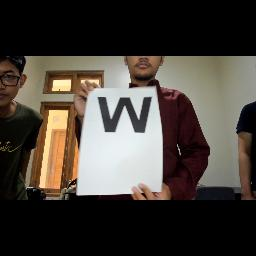w: (91, 92, 159, 138)
